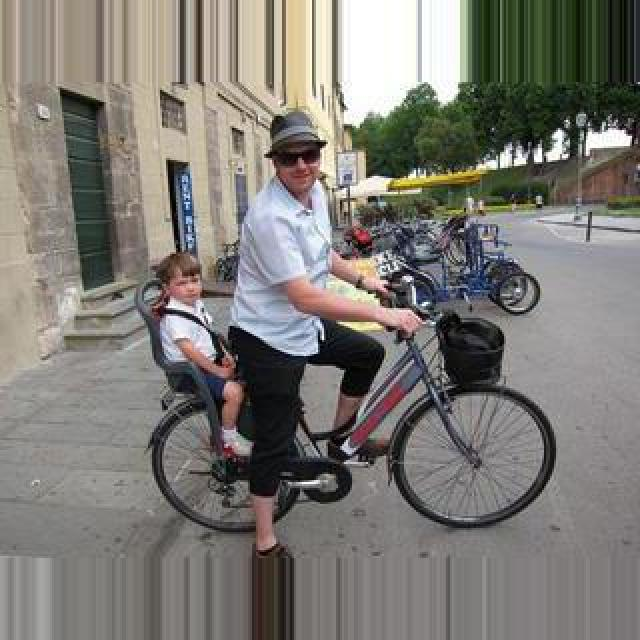MC-Bike: (224, 108, 424, 546), (146, 254, 250, 464)
Person: (140, 284, 560, 554), (388, 218, 544, 316)
